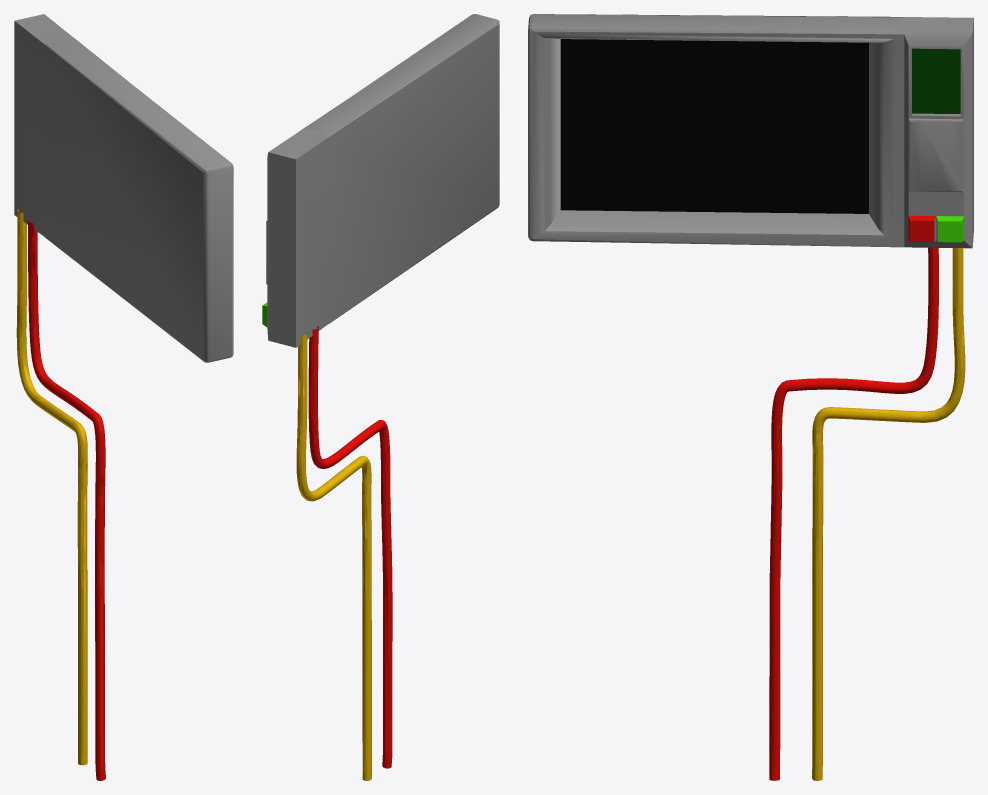
The model's file is SpaceShipScreen.glb.
The picture shows the model from 3 angles, left to right: view 1: azimuth 30°, elevation 25°; view 2: azimuth 150°, elevation 25°; view 3: azimuth 270°, elevation 25°; orthographic projection. The views are drawn at different scales.
Visible parts, largest first — view 1: ComputerScreen; view 2: ComputerScreen; view 3: ComputerScreen.
Boxes of the visible parts, left/top/right/bottom form: ComputerScreen: left=14, top=14, right=233, bottom=780; ComputerScreen: left=262, top=14, right=499, bottom=780; ComputerScreen: left=528, top=14, right=973, bottom=780.
Bounding box in the file's own units: 0.1203 × 1.57 × 0.829.
